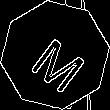M_NE: (21, 21, 89, 89)
